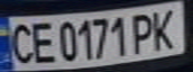0: (54, 17, 78, 63)
1: (109, 12, 130, 57), (75, 16, 93, 60)
7: (90, 15, 112, 60)
C: (3, 19, 36, 65)
E: (27, 18, 57, 65)
K: (148, 6, 184, 52)
P: (127, 9, 160, 54)
